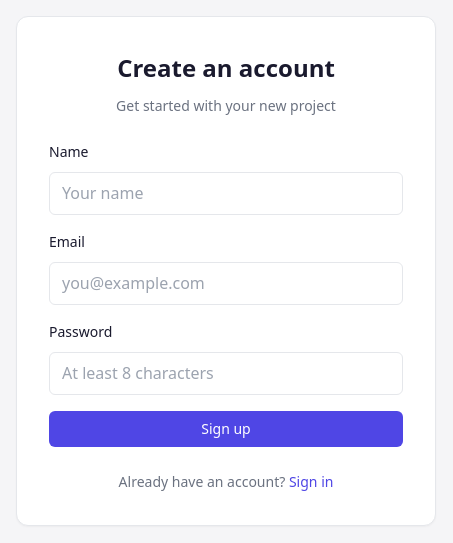
Test case: SignUp › shows loading state when submitting
Step 1. Type "Test" into the field labelled "Name" → {"x": 226, "y": 194}, box [49,172,403,216]
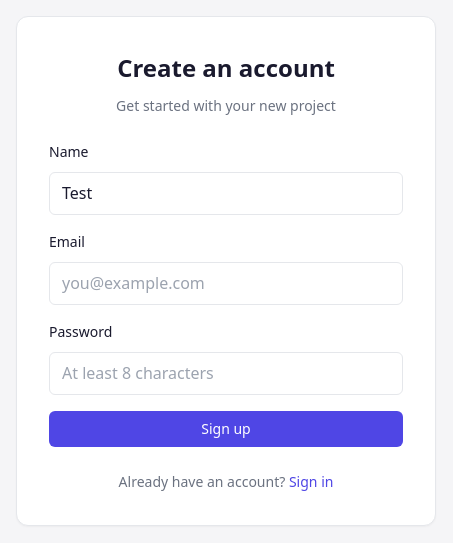
Step 2. Type "a@b.com" into the field labelled "Email" → {"x": 226, "y": 284}, box [49,262,403,305]
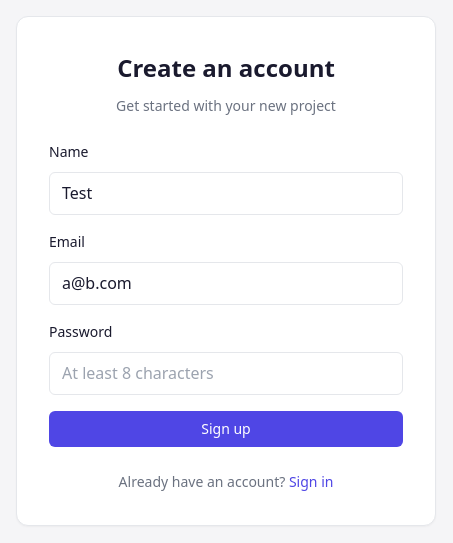
Step 3. Type "password123" into the password field labelled "Password" → {"x": 226, "y": 374}, box [49,352,403,395]
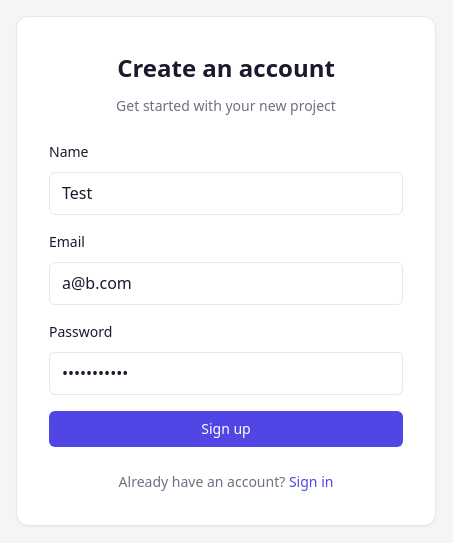
Step 4. Click the button "Sign up" → {"x": 226, "y": 429}, box [49,411,403,447]
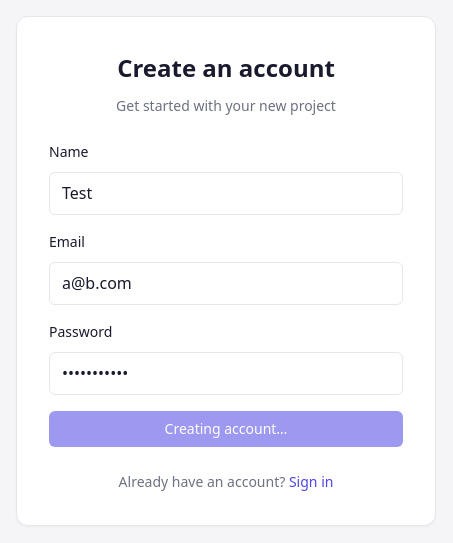
Now the button "Creating account…" is shown, box [49,411,403,447]
